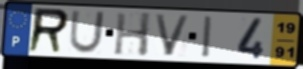4: (235, 15, 269, 62)
H: (112, 11, 154, 58)
I: (201, 14, 214, 60)
R: (25, 7, 71, 55)
U: (67, 10, 107, 55)
V: (152, 13, 193, 58)
